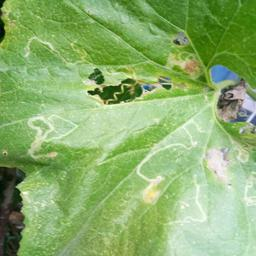liriomyza: (135, 117, 204, 205), (24, 113, 81, 160), (164, 173, 208, 227), (21, 36, 60, 59), (242, 170, 256, 207)
